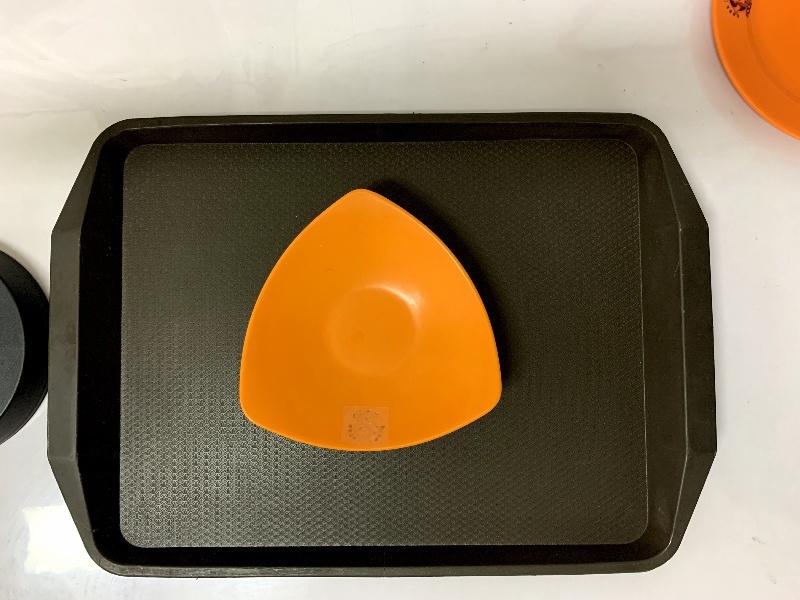dish11: (232, 181, 508, 458)
